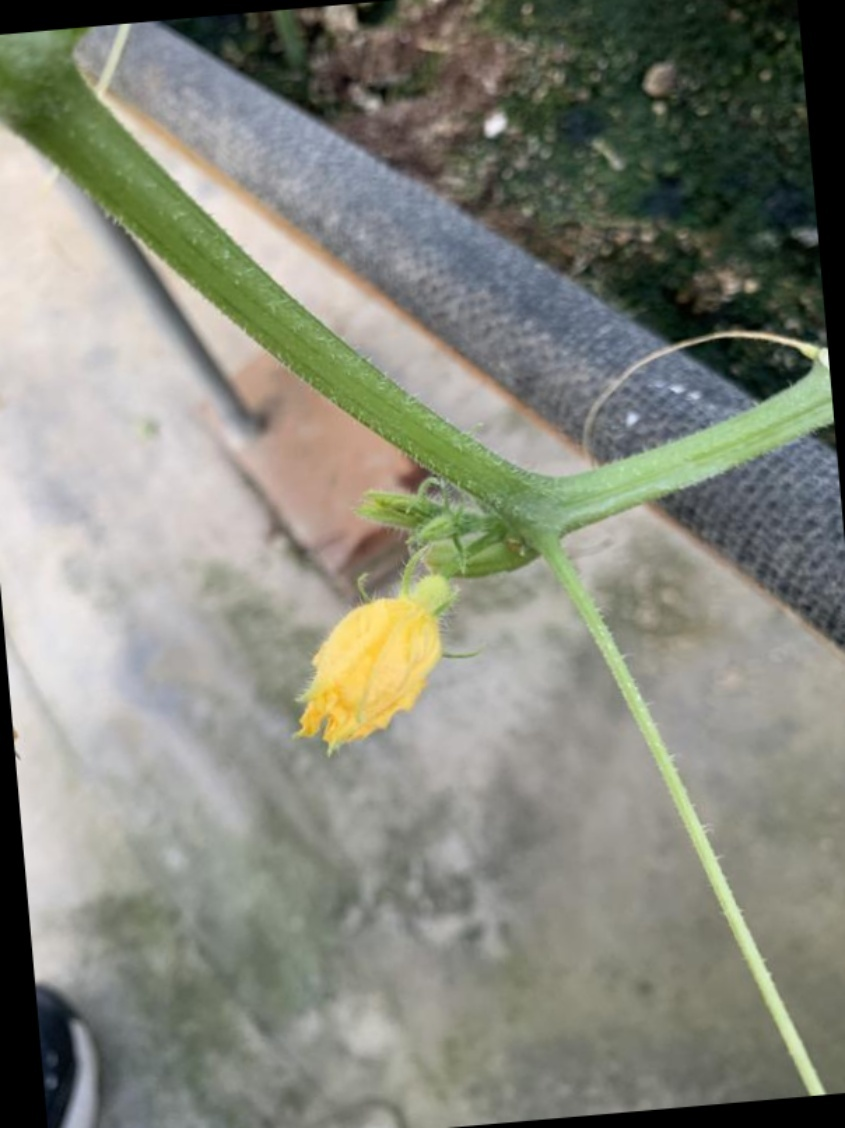bud: (236, 549, 485, 771)
